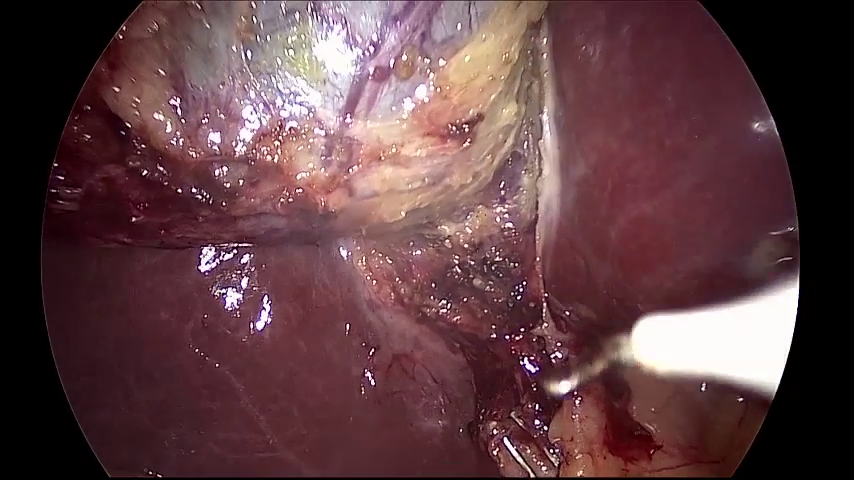lhook: (544, 275, 799, 396)
